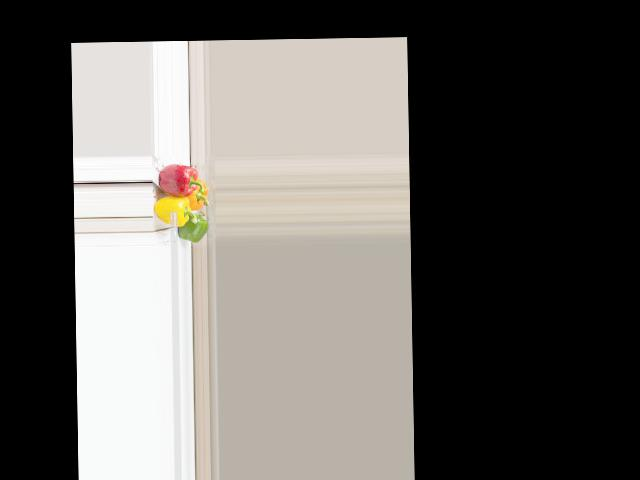bell_pepper: (186, 178, 209, 211)
